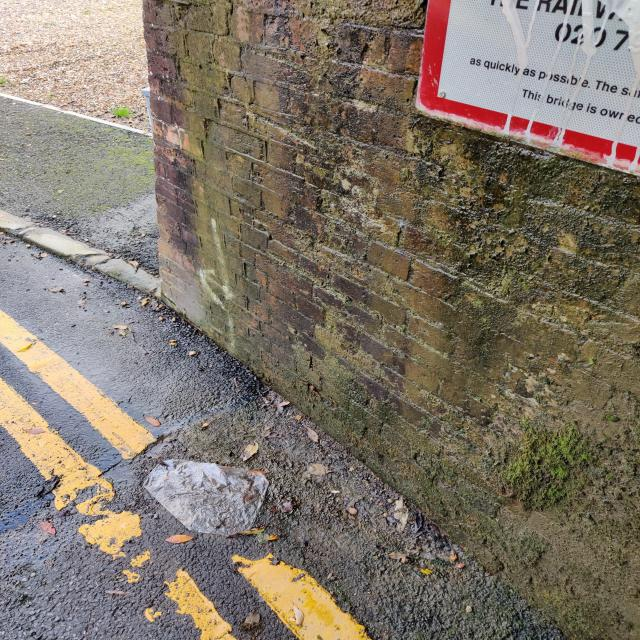litter: (143, 460, 270, 535)
